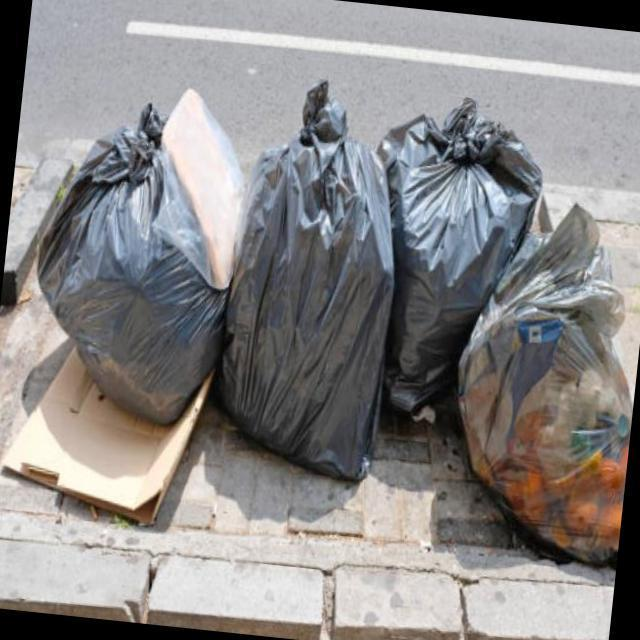garbage: (7, 48, 640, 580)
